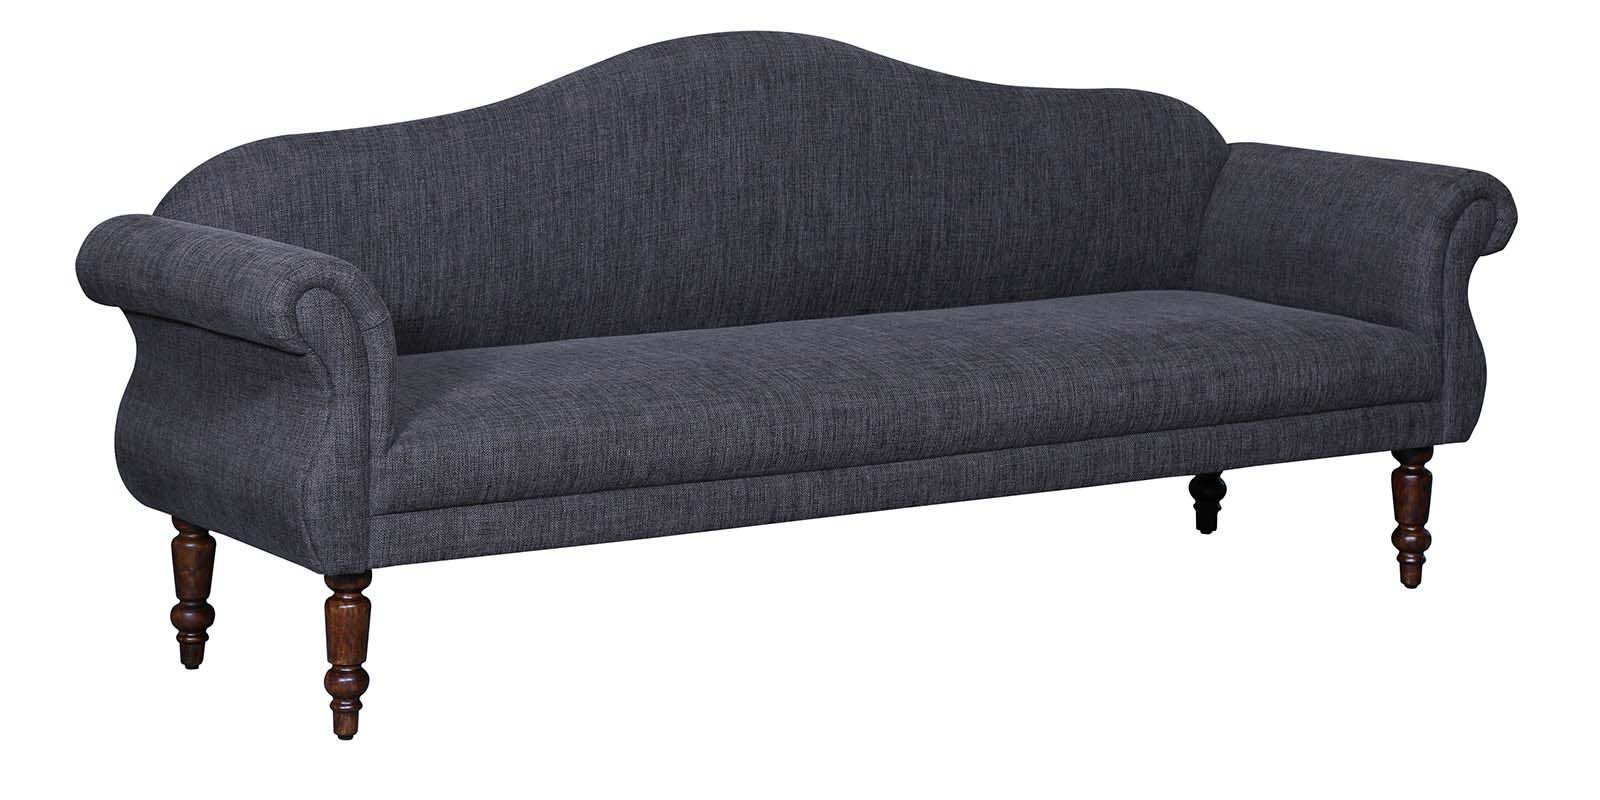Harleston Three Seater Sofa in Provincial Teak Finish by Amberville: (53, 10, 1527, 756)
